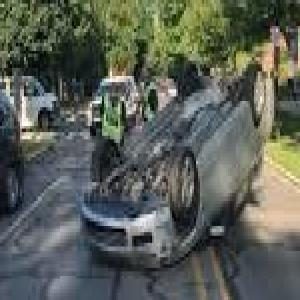critical: (78, 48, 276, 270)
